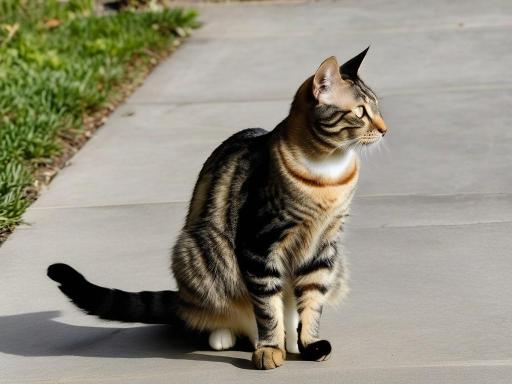cat_sitting: (48, 48, 386, 369)
